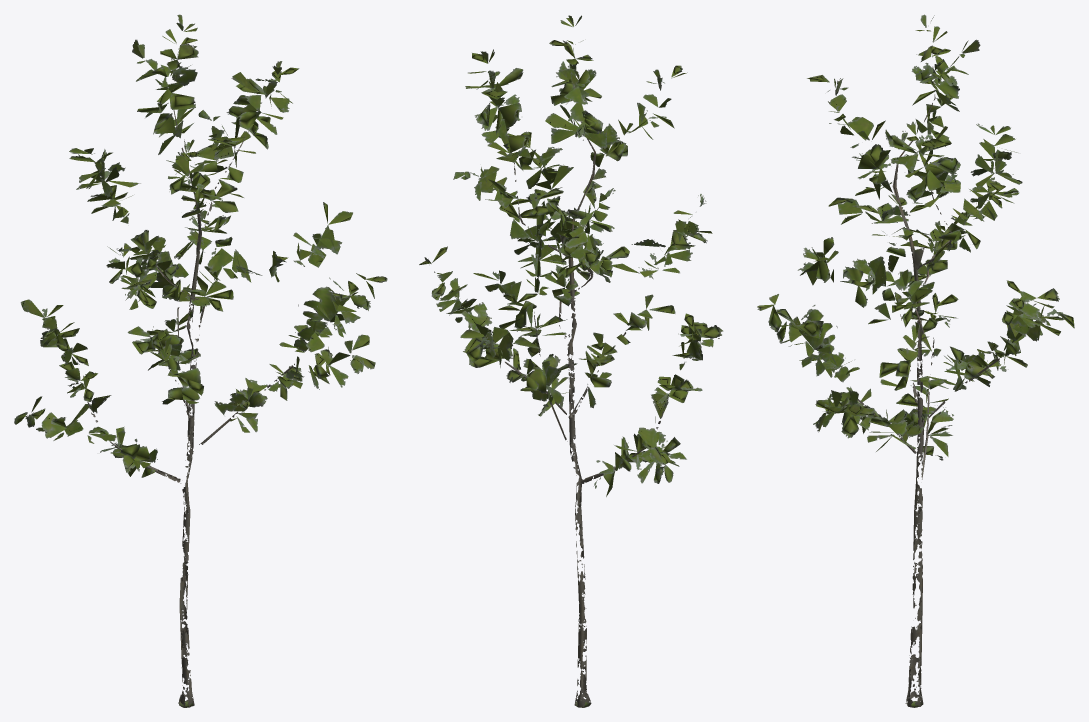
Rendered from HawthornSapling.glb.
The picture shows the model from 3 angles, left to right: view 1: azimuth 30°, elevation 25°; view 2: azimuth 150°, elevation 25°; view 3: azimuth 270°, elevation 25°; orthographic projection.
Visible parts, largest first — view 1: geometry_0; view 2: geometry_0; view 3: geometry_0.
Part boxes in pixels (x1=…): geometry_0: x1=14, y1=14, x2=387, y2=707; geometry_0: x1=419, y1=15, x2=723, y2=707; geometry_0: x1=757, y1=14, x2=1074, y2=707.
Bounding box in the file's own units: 0.858 × 1.95 × 0.82.
1 material, 1 textured.
